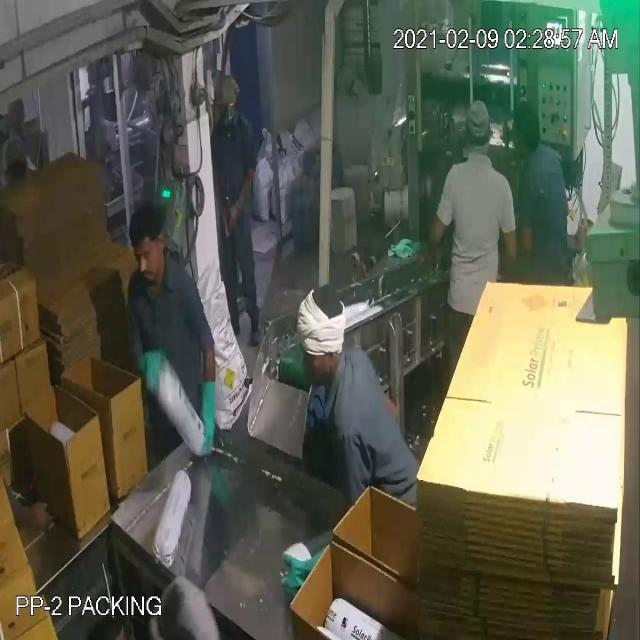No_Gloves: (24, 62, 304, 570)
